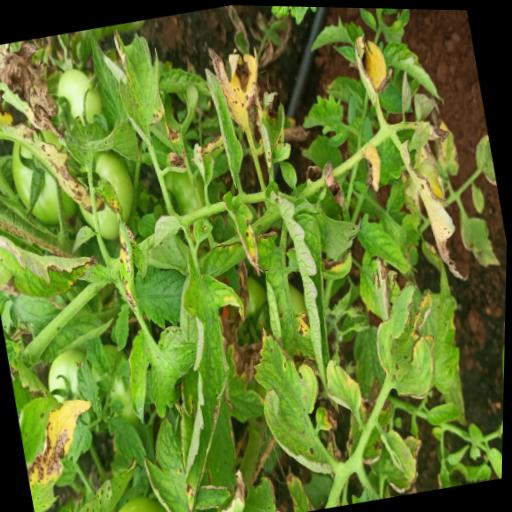Early Blight: (242, 311, 339, 484), (0, 82, 108, 234), (393, 129, 473, 289), (14, 385, 114, 512), (360, 273, 454, 407), (249, 221, 325, 372), (87, 167, 154, 317), (105, 18, 176, 141), (201, 31, 274, 136), (58, 453, 152, 512), (221, 188, 270, 285), (347, 21, 400, 99), (355, 139, 389, 200), (315, 243, 359, 285), (161, 145, 193, 180)
